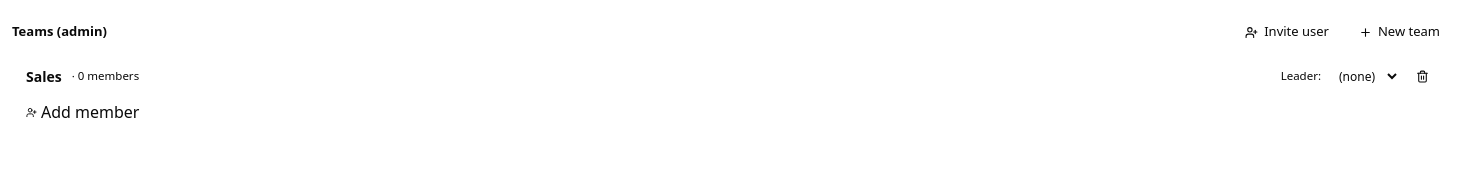
Test case: AdminTeamsPanel › shows the New team form when 'New team' is clicked
The width and height of the screenshot is (1464, 191).
Click the button "New team" at (1400, 32), box [1347,16,1452,48]
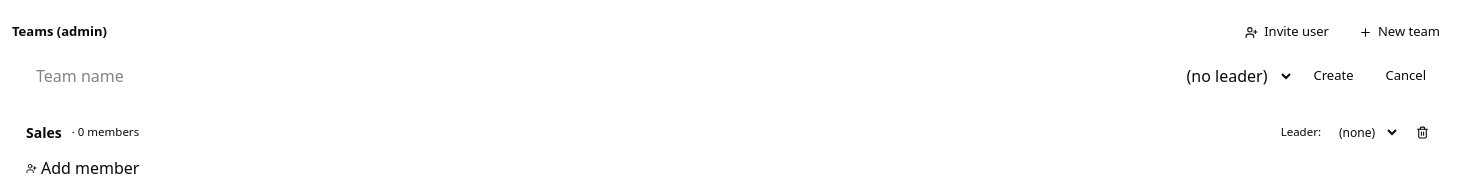
Now the field with placeholder "Team name" is shown, box [26,58,1164,94]
